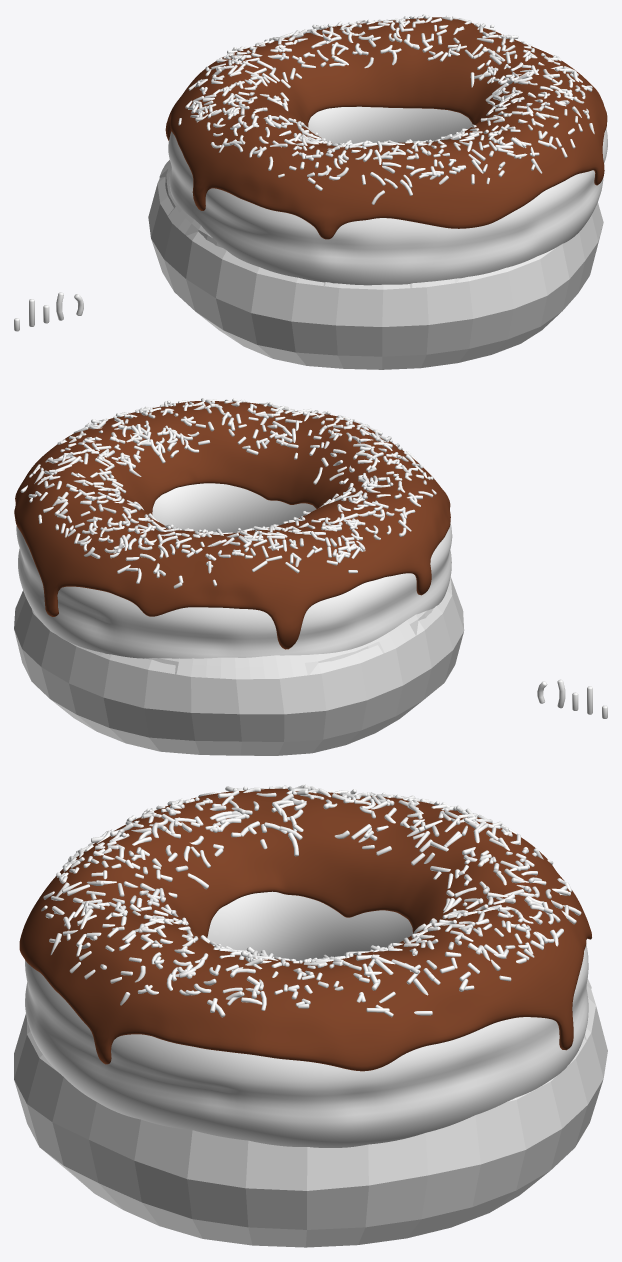
The model's file is Donut.glb.
3 views of the same model, one above another, from view 1: azimuth 30°, elevation 25°; view 2: azimuth 150°, elevation 25°; view 3: azimuth 270°, elevation 25° (orthographic). The views are drawn at different scales.
Visible parts, largest first — view 1: Es, Donat.001, Donat, Es.001; view 2: Es, Donat.001, Donat, Es.001; view 3: Es, Donat.001, Donat.
Part boxes in pixels (x1,y1,x2,y2): Es: (165, 17, 607, 239); Donat.001: (148, 176, 603, 369); Donat: (168, 106, 607, 285); Es.001: (159, 160, 459, 287); Es: (14, 401, 450, 649); Donat.001: (14, 577, 464, 755); Donat: (16, 483, 452, 658); Es.001: (68, 608, 433, 679); Es: (19, 788, 591, 1071); Donat.001: (14, 986, 607, 1247); Donat: (25, 891, 588, 1147).
Bounding box in the file's own units: 0.2189 × 0.082 × 0.1512.
